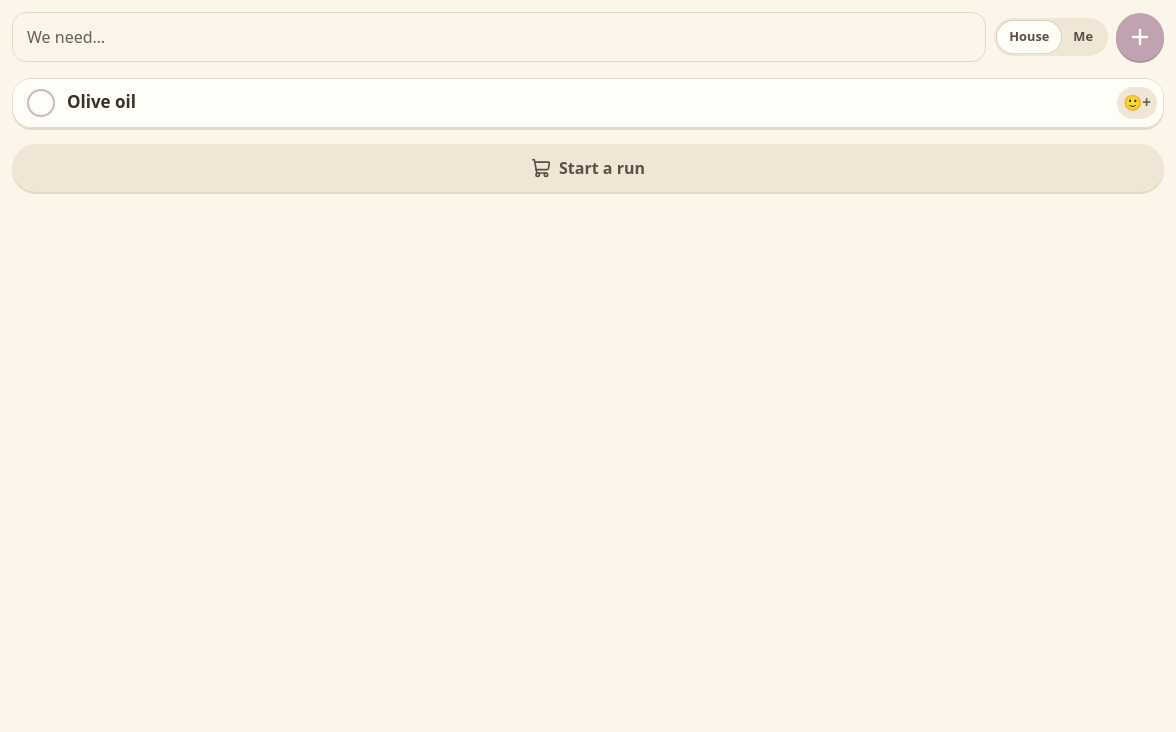
swipe on a Needs row (FRONTEND §5.5) › right is Got it, with Undo
Press the mouse on the element named "Got it: Olive oil" at (588, 103), box [13, 79, 1163, 127]
Click the element named "Got it: Olive oil" at (588, 103), box [13, 79, 1163, 127]
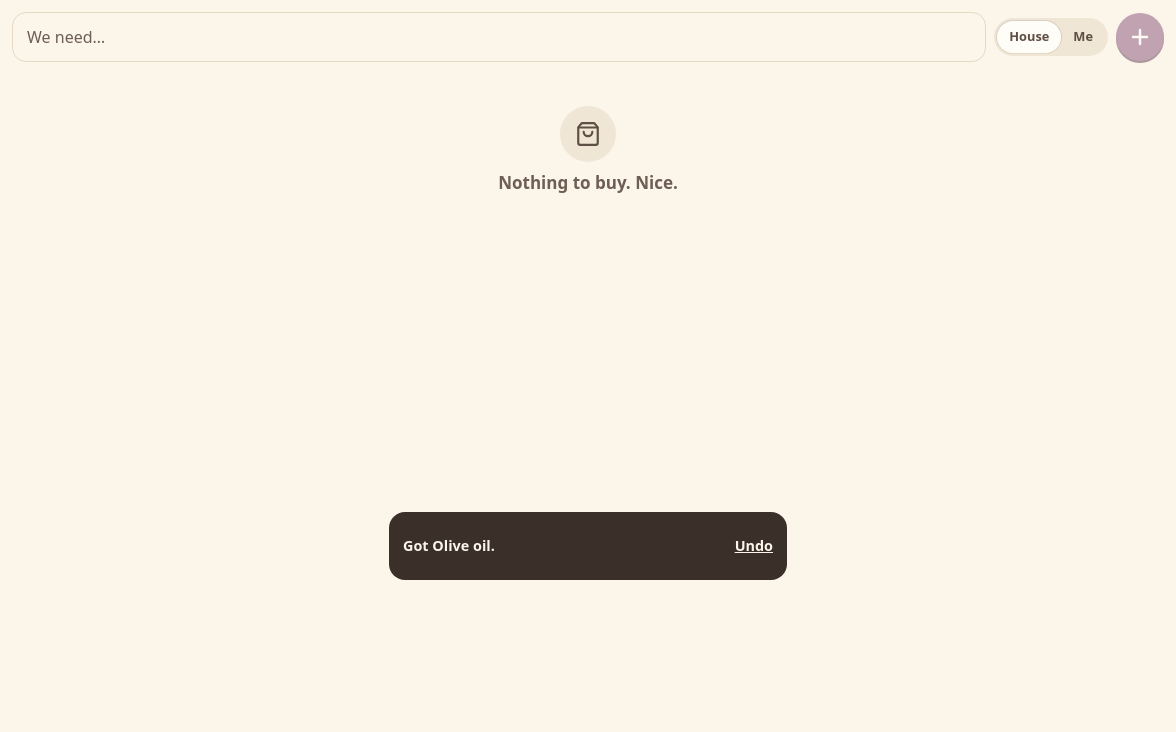
Expected: the text "Got Olive oil." is shown, [403, 535, 495, 557]
Expected: the list "Needs" is gone
